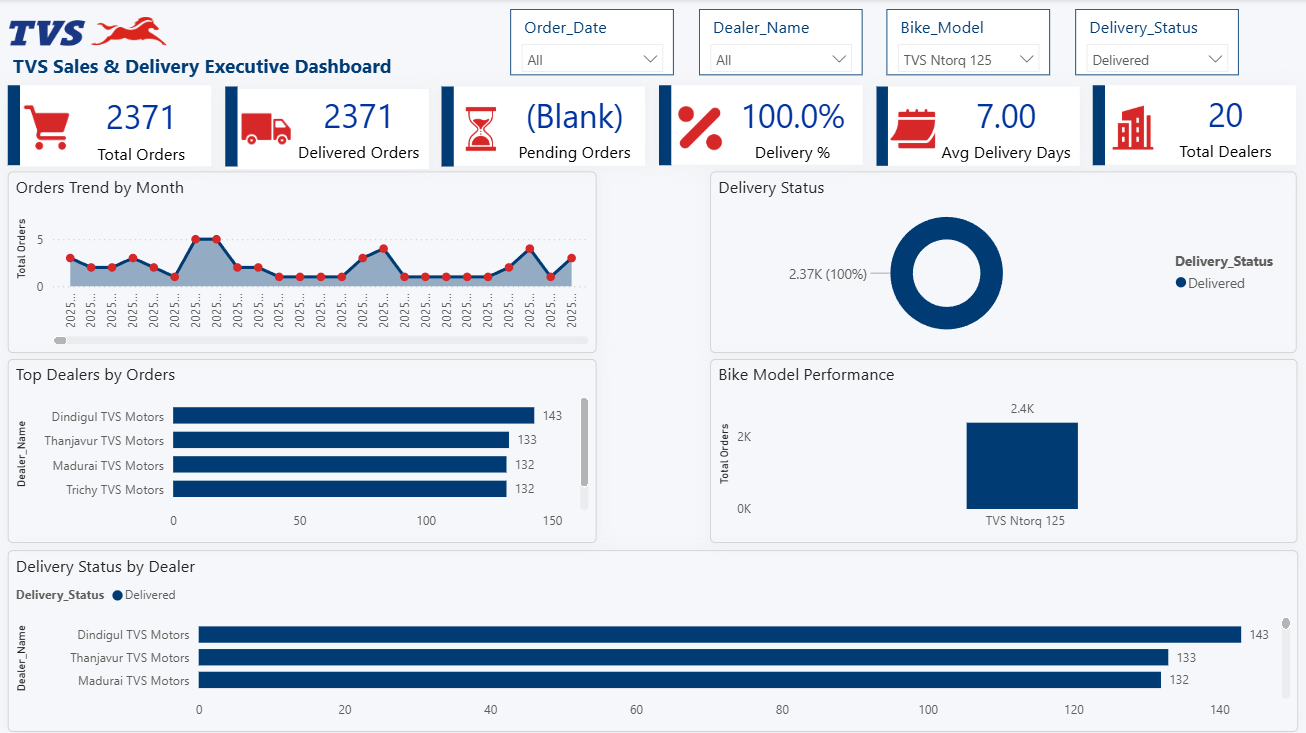

What the dashboard file says about the page in this screenshot:
{"tool":"powerbi","page":{"name":"Executive Dashboard","canvas":[1280,720],"ordinal":0},"visuals":[{"type":"image","box":[9.8,2.4,154.1,58.7],"z":0},{"type":"textbox","box":[8.6,47.7,382.7,40.4],"z":1000},{"type":"shape","box":[645.8,84.2,199.1,77.9],"z":2000,"group":"g4"},{"type":"shape","box":[1071.9,84.2,197.7,77.9],"z":2000,"group":"g6"},{"type":"shape","box":[433.4,85.6,199.1,77.9],"z":2000,"group":"g3"},{"type":"lineChart","title":"Orders Trend by Month","fields":{"Category":["orders.Order_Date"],"Y":["orders.Total Orders"]},"box":[8.2,169.2,576,177.3],"z":2000},{"type":"group","id":"g1","title":"Group 1","box":[8.7,84.2,199.6,80],"z":3000,"group":"g7"},{"type":"shape","box":[1070.6,84.6,12.2,78.3],"z":3000,"group":"g6"},{"type":"donutChart","title":"Delivery Status","fields":{"Category":["orders.Delivery_Status"],"Y":["CountNonNull(orders.Order_ID)"]},"box":[695.4,169.2,573.5,177.3],"z":3000},{"type":"group","id":"g2","title":"Group 2","box":[221.1,85.6,199.1,80.8],"z":3500,"group":"g7"},{"type":"card","fields":{"Values":["orders.Total Dealers"]},"box":[1132.5,84.2,135.6,79.4],"z":4000,"group":"g6"},{"type":"group","id":"g3","title":"Group 3","box":[433.4,85.6,199.1,79.4],"z":4000,"group":"g7"},{"type":"barChart","title":"Top Dealers by Orders","fields":{"Category":["orders.Dealer_Name"],"Y":["orders.Total Orders"]},"box":[8.2,352.8,576,179.8],"z":4000},{"type":"shape","title":"Shape 5","box":[859.4,86.1,197.9,77.4],"z":4500,"group":"g5"},{"type":"shape","box":[645.8,84.2,12.2,78.3],"z":5000,"group":"g4"},{"type":"group","id":"g4","title":"Group 4","box":[645.8,84.2,199.1,80.8],"z":5000,"group":"g7"},{"type":"shape","title":"rectangle","box":[858.2,85.6,11.6,77.7],"z":5000,"group":"g5"},{"type":"image","box":[1084.5,102.2,51.4,46.5],"z":5000,"group":"g6"},{"type":"clusteredColumnChart","title":"Bike Model Performance","fields":{"Category":["orders.Bike_Model"],"Y":["orders.Total Orders"]},"box":[695.4,352.8,574.7,179.8],"z":5000},{"type":"shape","box":[433.4,85.6,12.2,78.3],"z":6000,"group":"g3"},{"type":"group","id":"g5","title":"Group 5","box":[858.2,85.6,199.1,79.4],"z":6000,"group":"g7"},{"type":"card","fields":{"Values":["orders.Avg Delivery Days"]},"box":[915.4,86.1,139.2,78.8],"z":6000,"group":"g5"},{"type":"barChart","title":"Delivery Status by Dealer","fields":{"Category":["orders.Dealer_Name"],"Series":["orders.Delivery_Status"],"Y":["orders.Total Orders"]},"box":[8.7,539.6,1262.4,177.5],"z":6000},{"type":"slicer","fields":{"Values":["orders.Order_Date"]},"box":[500.1,9.8,160.2,64.8],"z":7000},{"type":"group","id":"g6","title":"Group 6","box":[1070.6,84.2,199.1,79.4],"z":7000,"group":"g7"},{"type":"image","box":[870.8,104,48,46.2],"z":7000,"group":"g5"},{"type":"shape","title":"Shape 1","box":[9,84.2,199.1,79.4],"z":7500,"group":"g1"},{"type":"group","id":"g7","title":"Group 7","box":[8.7,84.2,1261,82.2],"z":8000},{"type":"shape","title":"rectangle","box":[8.7,84.7,12.2,78.3],"z":8000,"group":"g1"},{"type":"card","fields":{"Values":["orders.Delivery %"]},"box":[707.8,85.6,137.1,79.4],"z":8000,"group":"g4"},{"type":"shape","title":"Shape 2","box":[221.1,87.6,199.3,78.3],"z":8500,"group":"g2"},{"type":"slicer","fields":{"Values":["orders.Dealer_Name"]},"box":[684.4,9.8,160.2,64.8],"z":9000},{"type":"shape","title":"rectangle","box":[221.6,85.6,12.2,78.3],"z":9000,"group":"g2"},{"type":"image","box":[660.6,103.7,51.4,46.5],"z":9000,"group":"g4"},{"type":"slicer","fields":{"Values":["orders.Delivery_Status"]},"box":[1052.9,9.8,160.2,64.8],"z":10000},{"type":"card","fields":{"Values":["orders.Pending Orders"]},"box":[494,85.6,138.5,79.4],"z":10000,"group":"g3"},{"type":"slicer","fields":{"Values":["orders.Bike_Model"]},"box":[868.6,9.8,160.2,64.8],"z":11000},{"type":"image","box":[446.8,103.9,51.4,46.5],"z":11000,"group":"g3"},{"type":"card","fields":{"Values":["orders.Total Orders"]},"box":[71.3,89.6,137,74.6],"z":14000,"group":"g1"},{"type":"image","box":[23.6,102.6,51,46],"z":15000,"group":"g1"},{"type":"card","fields":{"Values":["orders.Delivered Orders"]},"box":[284,85.6,137,79.5],"z":16000,"group":"g2"},{"type":"image","box":[236.3,103.7,51.4,46.5],"z":17000,"group":"g2"}]}

Visuals, with their boxes in screenshot pixels (x1, y1, x2, y2), scaled from the page's 1280x720 canvas onto the 1306x733 screenshot:
image: 10/2/167/62
textbox: 9/49/399/90
shape: 659/86/862/165
shape: 1094/86/1295/165
shape: 442/87/645/166
"Orders Trend by Month" lineChart: 8/172/596/353
"Group 1" group: 9/86/213/167
shape: 1092/86/1105/166
"Delivery Status" donutChart: 710/172/1295/353
"Group 2" group: 226/87/429/169
card - orders.Total Dealers: 1156/86/1294/167
"Group 3" group: 442/87/645/168
"Top Dealers by Orders" barChart: 8/359/596/542
"Shape 5" shape: 877/88/1079/166
shape: 659/86/671/165
"Group 4" group: 659/86/862/168
"rectangle" shape: 876/87/887/166
image: 1107/104/1159/151
"Bike Model Performance" clusteredColumnChart: 710/359/1296/542
shape: 442/87/455/167
"Group 5" group: 876/87/1079/168
card - orders.Avg Delivery Days: 934/88/1076/168
"Delivery Status by Dealer" barChart: 9/549/1297/730
slicer - orders.Order_Date: 510/10/674/76
"Group 6" group: 1092/86/1295/167
image: 888/106/937/153
"Shape 1" shape: 9/86/212/167
"Group 7" group: 9/86/1295/169
"rectangle" shape: 9/86/21/166
card - orders.Delivery %: 722/87/862/168
"Shape 2" shape: 226/89/429/169
slicer - orders.Dealer_Name: 698/10/862/76
"rectangle" shape: 226/87/239/167
image: 674/106/726/153
slicer - orders.Delivery_Status: 1074/10/1238/76
card - orders.Pending Orders: 504/87/645/168
slicer - orders.Bike_Model: 886/10/1050/76
image: 456/106/508/153
card - orders.Total Orders: 73/91/213/167
image: 24/104/76/151
card - orders.Delivered Orders: 290/87/430/168
image: 241/106/294/153
